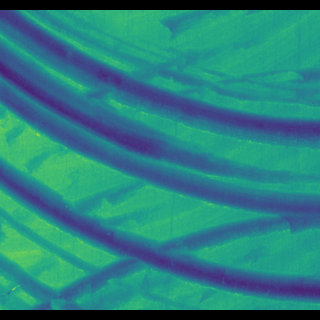Loch: (0, 17, 320, 214), (1, 155, 319, 298), (0, 196, 206, 299)
